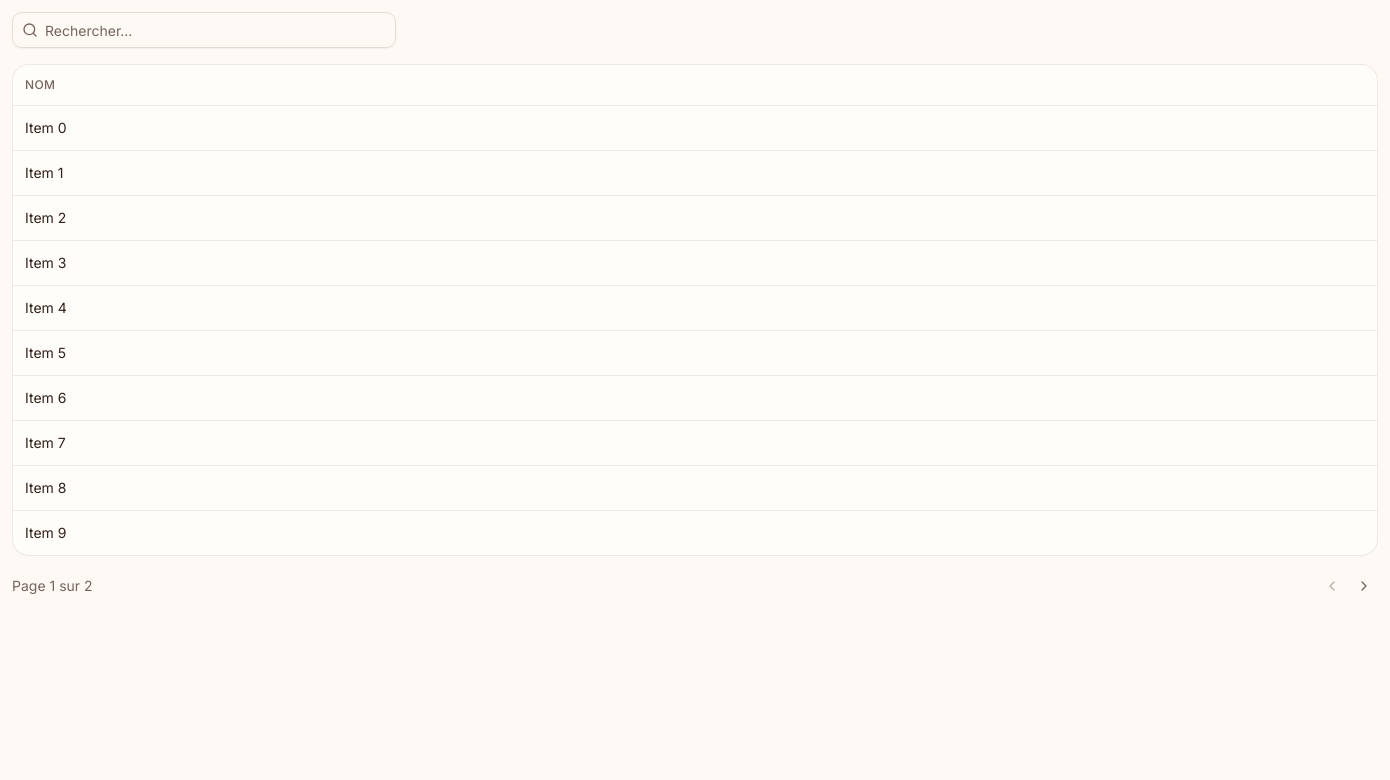
DataTable › paginates when there are more than 10 rows
The width and height of the screenshot is (1390, 780).
Expected: the text "Page 1 sur 2" is shown, x1=12 y1=576 x2=93 y2=596
Expected: the text "Item 0" is shown, x1=13 y1=105 x2=1377 y2=150
What coordinates should you click on to do the following:
click the 2nd button
I would click on:
 (1364, 586)
Its box is x1=1350 y1=572 x2=1378 y2=600.
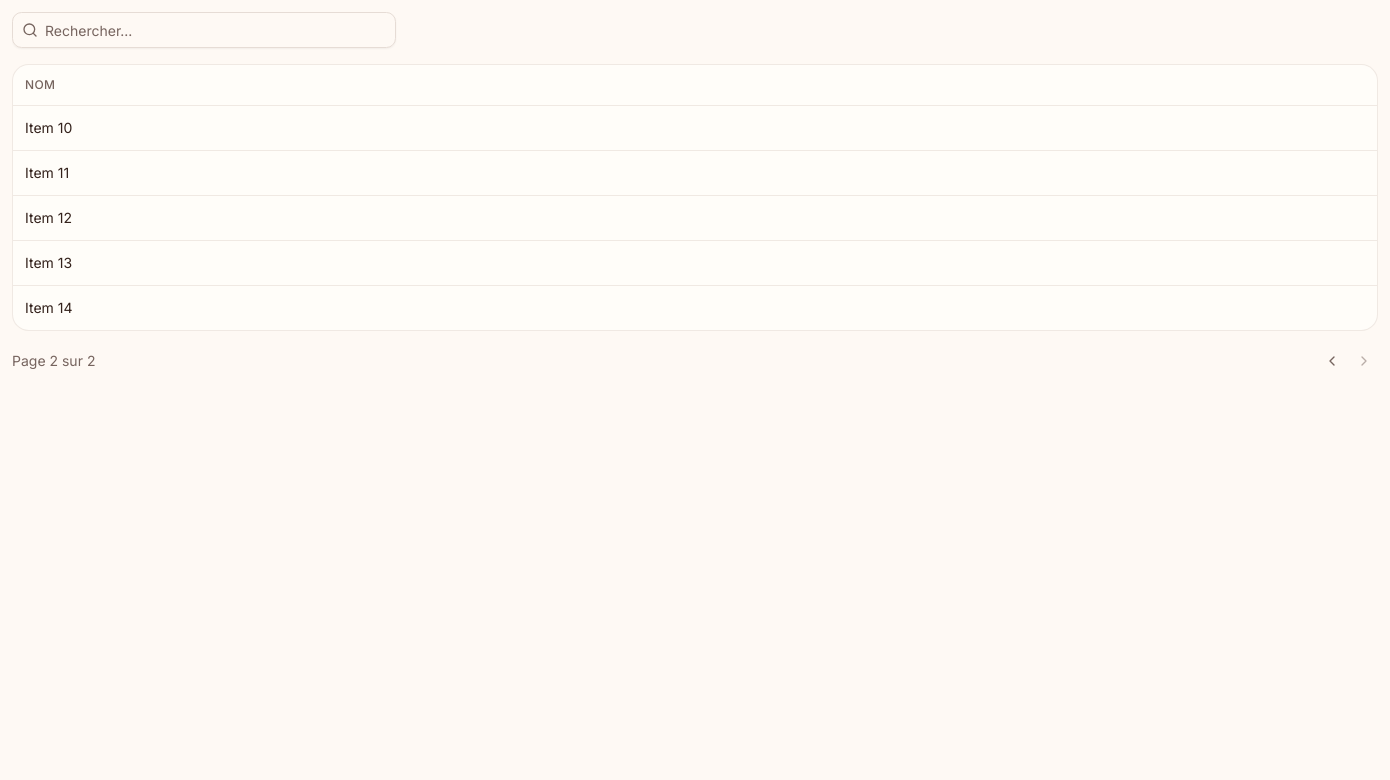
Expected: the text "Page 2 sur 2" is shown, x1=12 y1=350 x2=95 y2=370
